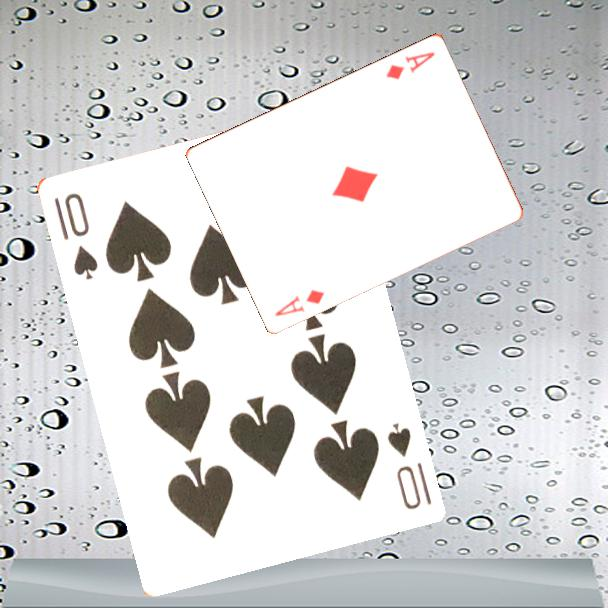d01: (382, 48, 438, 82), (271, 285, 327, 319)
s10: (383, 419, 434, 512), (50, 189, 100, 283)
